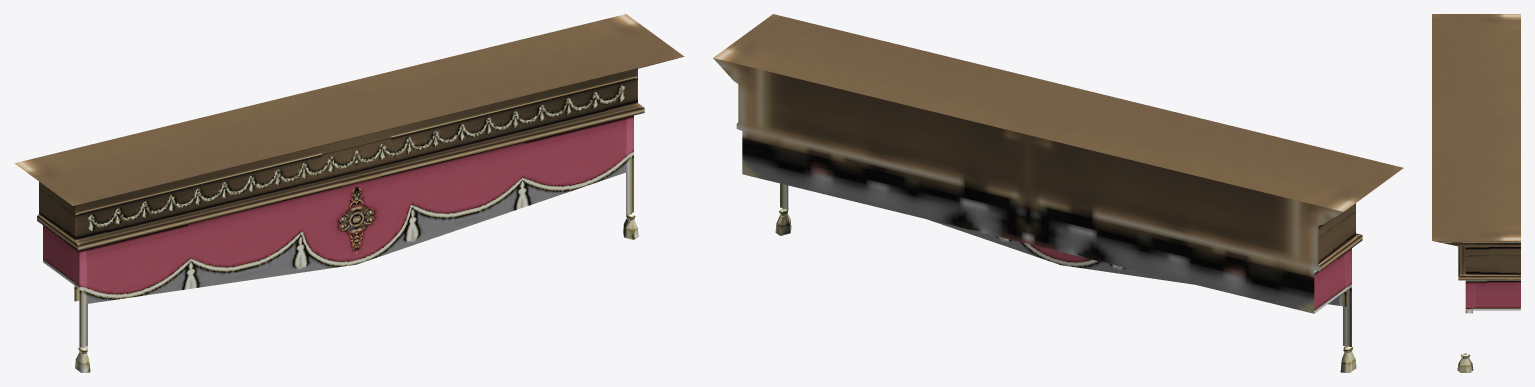
The model's file is Curtain03A.FBX.
The picture shows the model from 3 angles, left to right: view 1: azimuth 30°, elevation 25°; view 2: azimuth 150°, elevation 25°; view 3: azimuth 270°, elevation 25°; orthographic projection. The views are drawn at different scales.
Parts seen in each view (by area): view 1: Curtain03A; view 2: Curtain03A; view 3: Curtain03A.
Part boxes in pixels (box(x1,y1,x2,y2)): Curtain03A: box(15, 14, 684, 372); Curtain03A: box(713, 14, 1403, 372); Curtain03A: box(1432, 14, 1520, 372).
Size of the model in its own units: 382 by 63.13 by 112.
